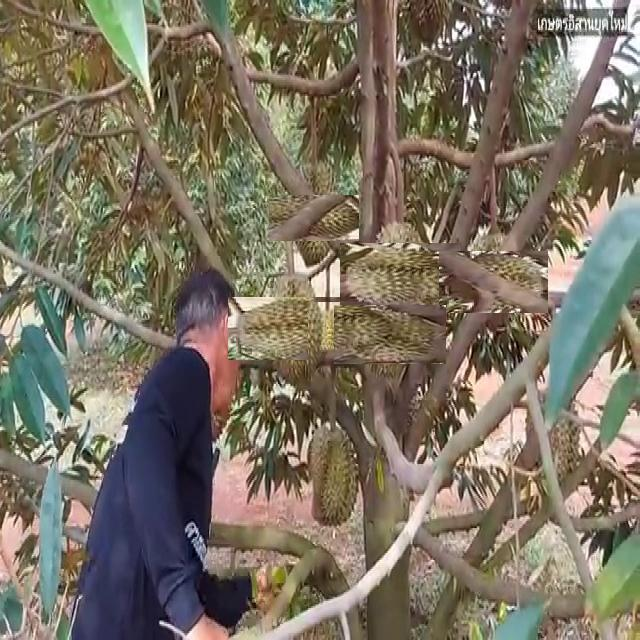durian: (245, 280, 341, 377), (354, 229, 448, 324), (450, 239, 536, 325), (347, 291, 433, 377), (524, 377, 581, 503), (304, 419, 362, 533), (280, 184, 349, 252), (308, 302, 350, 404)
